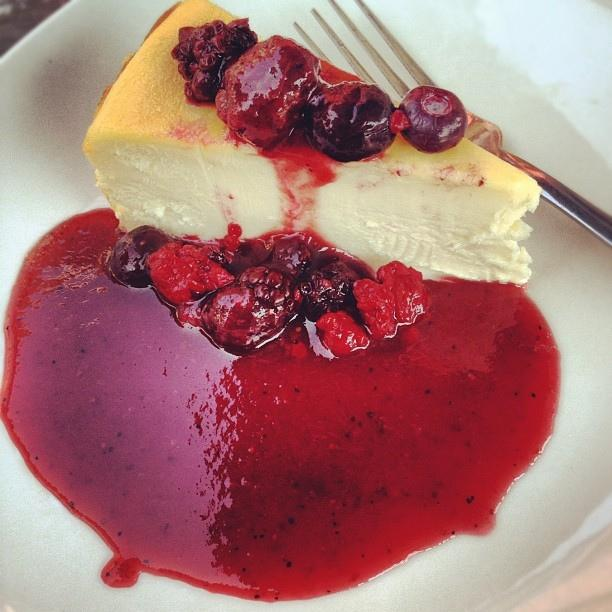blueberry: (202, 263, 296, 351), (303, 81, 398, 164), (297, 256, 369, 326), (398, 84, 469, 154), (111, 225, 174, 288), (272, 236, 318, 281), (228, 240, 270, 274)
raspberry: (171, 18, 258, 101), (354, 260, 429, 342), (234, 264, 303, 348), (147, 242, 235, 303), (317, 310, 370, 356)
